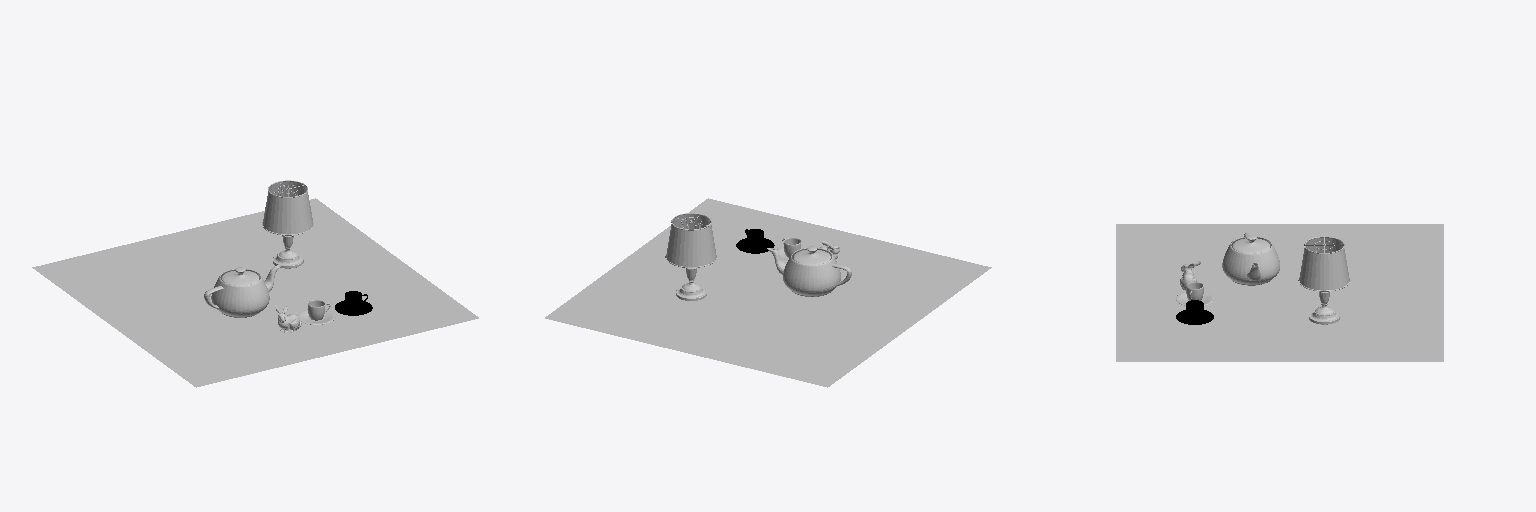
File: CompleteScene.obj
3 views of the same model, side by side, from view 1: azimuth 30°, elevation 25°; view 2: azimuth 150°, elevation 25°; view 3: azimuth 270°, elevation 25° (orthographic).
Visible parts, largest first — view 1: Plane.001, teapot, Lamp.007, teacup, teacup.001; view 2: Plane.001, teapot, Lamp.007, teacup.001; view 3: Plane.001, teapot, Lamp.007, teacup.001, teacup.
Boxes of the visible parts, x1=… form: Plane.001: x1=32, y1=198, x2=478, y2=387; teapot: x1=204, y1=265, x2=280, y2=317; Lamp.007: x1=263, y1=181, x2=312, y2=233; teacup: x1=298, y1=300, x2=335, y2=324; teacup.001: x1=335, y1=291, x2=372, y2=315; Plane.001: x1=545, y1=198, x2=991, y2=387; teapot: x1=767, y1=246, x2=851, y2=296; Lamp.007: x1=666, y1=214, x2=716, y2=266; teacup.001: x1=736, y1=229, x2=774, y2=253; Plane.001: x1=1116, y1=224, x2=1443, y2=361; teapot: x1=1222, y1=233, x2=1279, y2=285; Lamp.007: x1=1299, y1=238, x2=1349, y2=290; teacup.001: x1=1176, y1=300, x2=1213, y2=324; teacup: x1=1176, y1=282, x2=1213, y2=305.
Bounding box in the file's own units: 16.76 × 4.29 × 16.76.